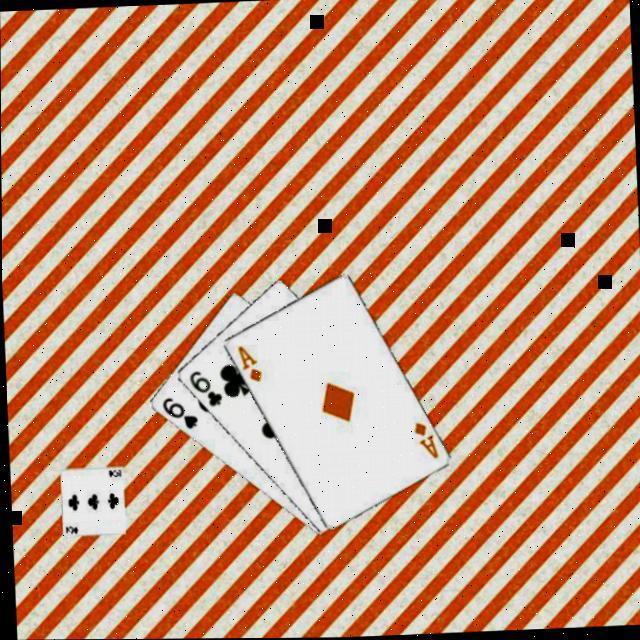6C: (183, 369, 222, 412)
6S: (156, 395, 197, 434)
AD: (407, 420, 438, 464), (231, 342, 261, 386)
